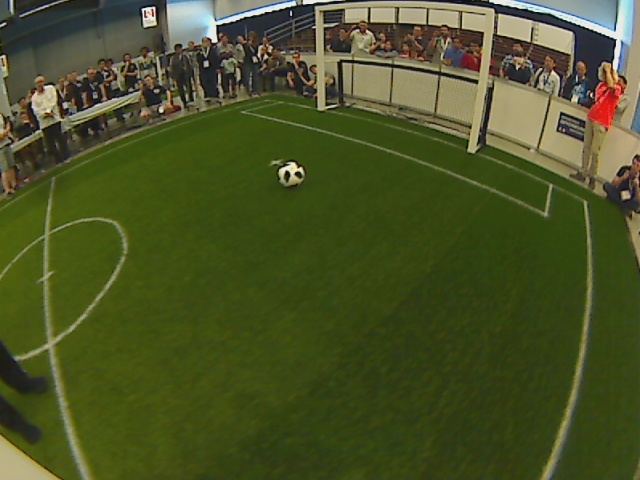ball: (274, 160, 306, 188)
